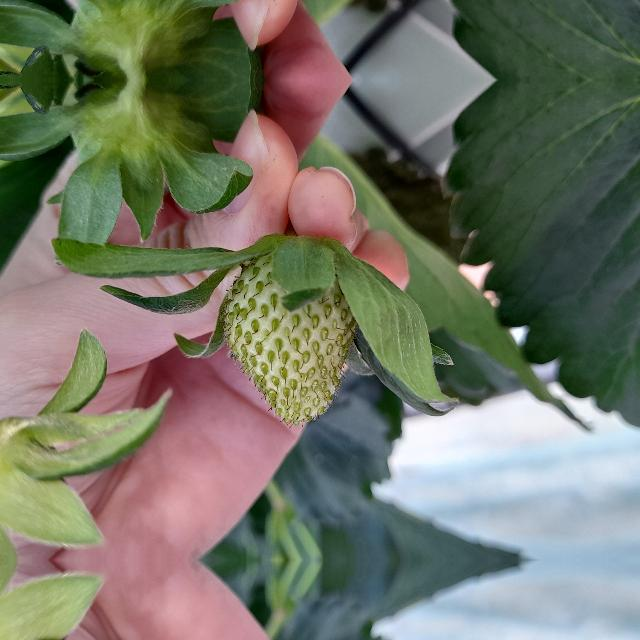Health_25: (223, 252, 355, 426)
